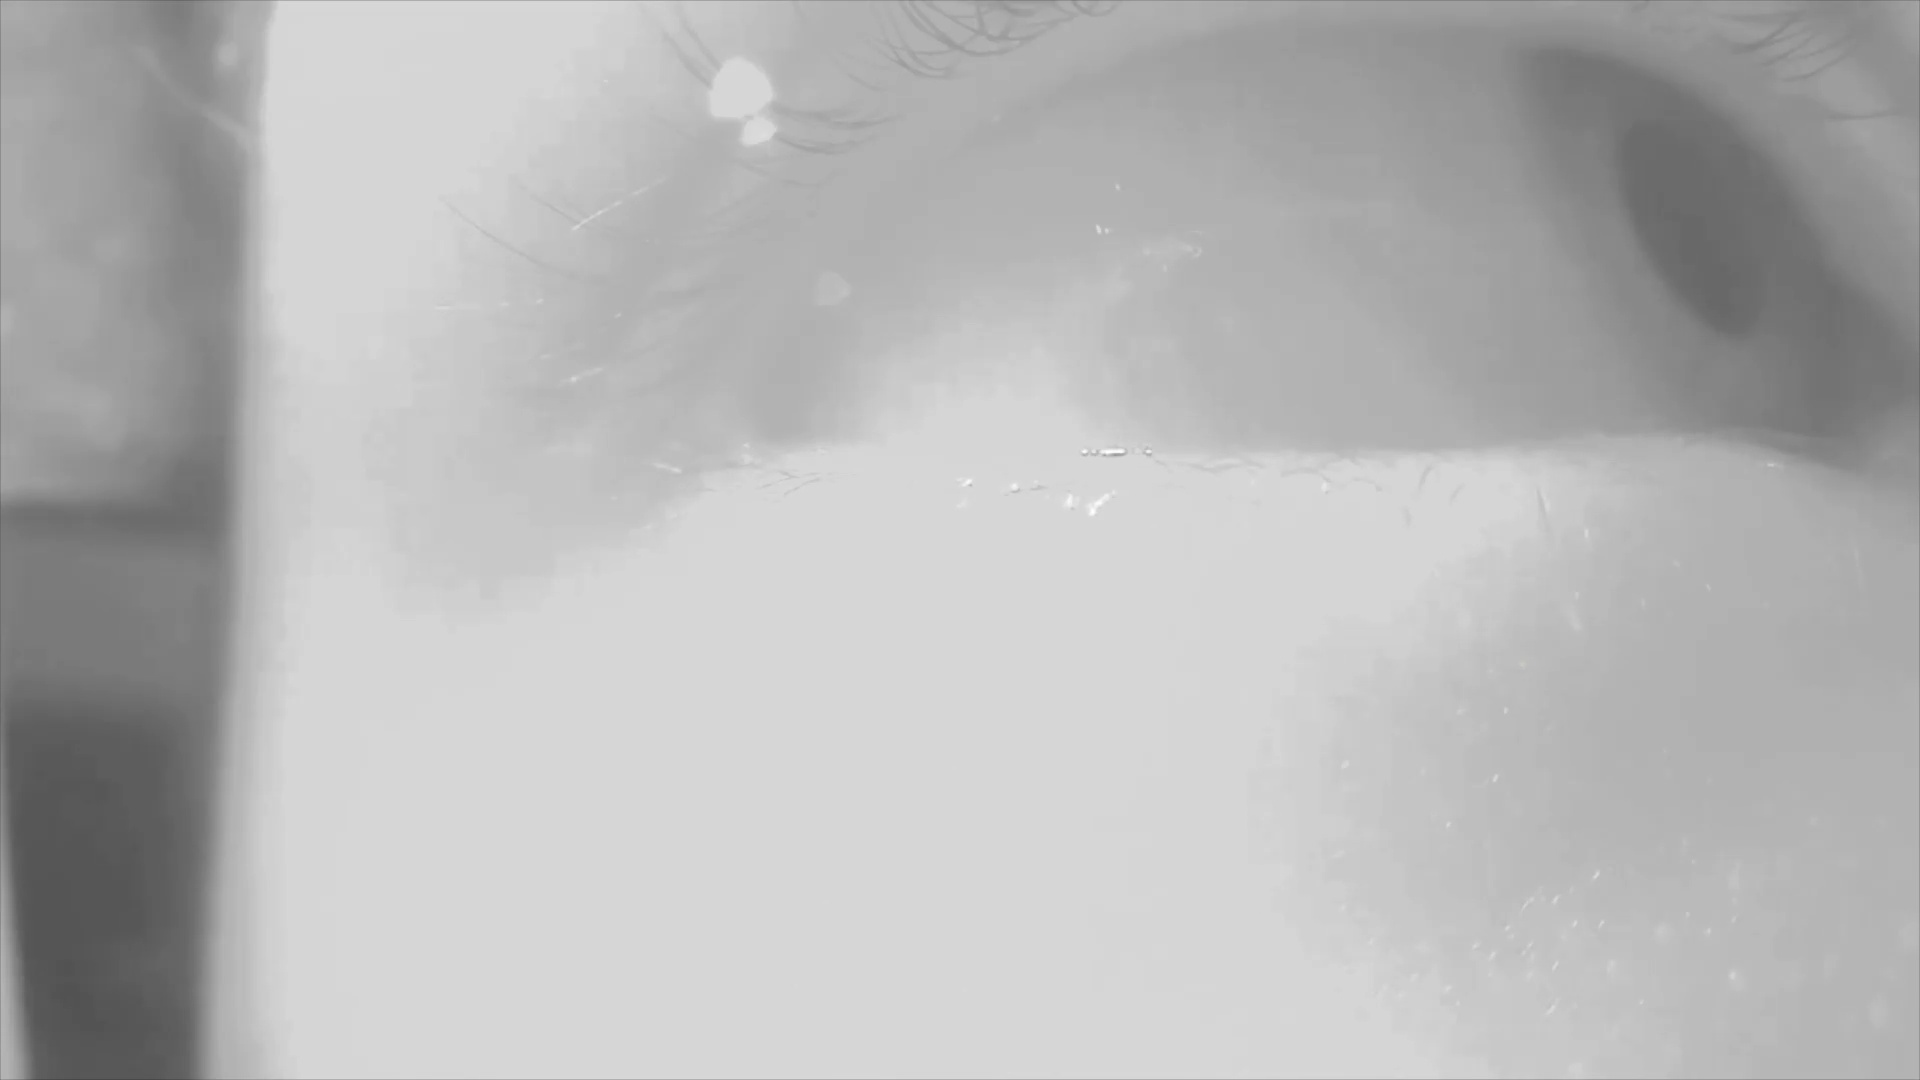pupil: (1620, 121, 1774, 340)
